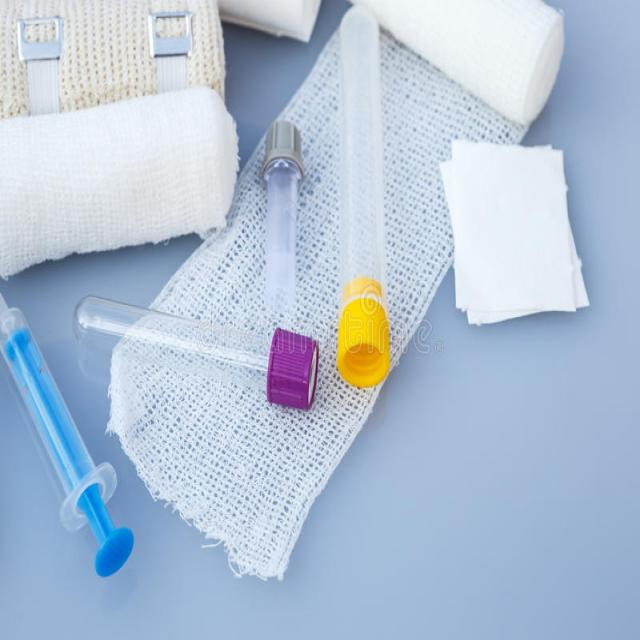B3: (1, 288, 143, 602)
